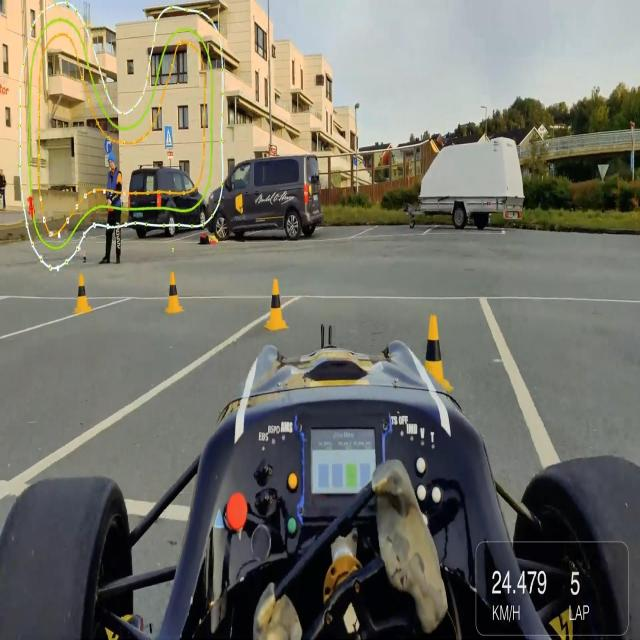yellow_cone: (425, 309, 453, 391), (263, 276, 289, 334), (160, 268, 185, 316), (74, 270, 94, 319)
